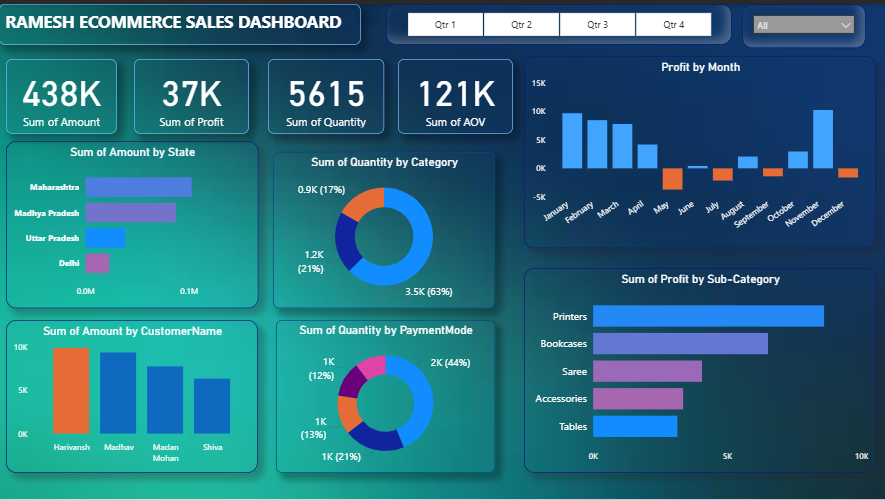

The page's visual inventory and layout, read from the dashboard file:
{"tool":"powerbi","page":{"name":"Page 1","canvas":[1280,720],"ordinal":0},"visuals":[{"type":"textbox","box":[0,0,523.4,59.3],"z":0},{"type":"columnChart","title":"Profit by Month","fields":{"Y":["Details.Profit"],"Category":["Orders.Order Date.Variation.Date Hierarchy.Month"]},"box":[759,75.2,508.9,277.6],"z":1000},{"type":"clusteredBarChart","fields":{"Y":["Details.Profit"],"Category":["Details.Sub-Category"]},"box":[759,381.7,508.9,296.4],"z":2000},{"type":"donutChart","fields":{"Category":["Details.Category"],"Y":["Details.Quantity"]},"box":[396.1,214,321,225.5],"z":3000},{"type":"donutChart","fields":{"Category":["Details.PaymentMode"],"Y":["Details.Quantity"]},"box":[400.5,456.9,316.6,221.2],"z":4000},{"type":"card","fields":{"Values":["Details.Amount"]},"box":[10.1,79.5,160.5,108.4],"z":5000},{"type":"card","fields":{"Values":["Details.Quantity"]},"box":[388.9,79.5,167.7,108.4],"z":6000},{"type":"card","fields":{"Values":["Details.Profit"]},"box":[195.2,79.5,166.3,108.4],"z":7000},{"type":"card","fields":{"Values":["Details.AOV"]},"box":[576.9,79.5,166.3,108.4],"z":8000},{"type":"clusteredBarChart","fields":{"Y":["Details.Amount"],"Category":["Orders.State"]},"box":[10.1,198.2,364.5,241.9],"z":9000},{"type":"clusteredColumnChart","fields":{"Category":["Orders.CustomerName"],"Y":["Details.Amount"]},"box":[10.1,456.9,364.3,221.2],"z":10000},{"type":"slicer","fields":{"Values":["Orders.Order Date.Variation.Date Hierarchy.Quarter"]},"box":[559.5,0,500.2,59.3],"z":11000},{"type":"slicer","fields":{"Values":["Orders.State"]},"box":[1074.2,0,179.3,63.6],"z":12000}]}

Visuals, with their boxes in screenshot pixels (x1, y1, x2, y2), scaled from the page's 1280x720 canvas onto the 885x500 screenshot:
textbox: l=0, t=0, r=362, b=41
"Profit by Month" columnChart: l=525, t=52, r=877, b=245
clusteredBarChart - Details.Profit x Details.Sub-Category: l=525, t=265, r=877, b=471
donutChart - Details.Category x Details.Quantity: l=274, t=149, r=496, b=305
donutChart - Details.PaymentMode x Details.Quantity: l=277, t=317, r=496, b=471
card - Details.Amount: l=7, t=55, r=118, b=130
card - Details.Quantity: l=269, t=55, r=385, b=130
card - Details.Profit: l=135, t=55, r=250, b=130
card - Details.AOV: l=399, t=55, r=514, b=130
clusteredBarChart - Details.Amount x Orders.State: l=7, t=138, r=259, b=306
clusteredColumnChart - Orders.CustomerName x Details.Amount: l=7, t=317, r=259, b=471
slicer - Orders.Order Date.Variation.Date Hierarchy.Quarter: l=387, t=0, r=733, b=41
slicer - Orders.State: l=743, t=0, r=867, b=44
